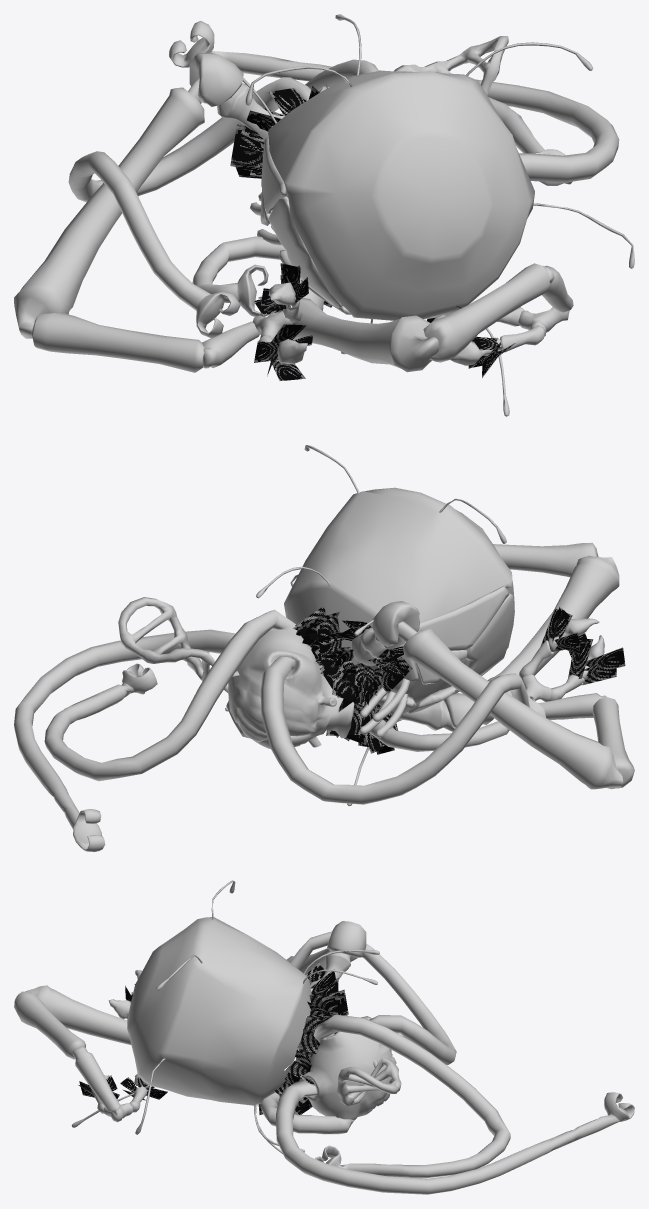
The model's file is scpd_Wrk_Death-pose_Mesh.fbx.
3 renders of one model, top to bottom at view 1: azimuth 30°, elevation 25°; view 2: azimuth 150°, elevation 25°; view 3: azimuth 270°, elevation 25°, orthographic. The views are drawn at different scales.
Visible parts, largest first — view 1: scifopodWorker_LOD0; view 2: scifopodWorker_LOD0; view 3: scifopodWorker_LOD0.
Part boxes in pixels (bbox=[...]): scifopodWorker_LOD0: bbox=[14, 14, 634, 416]; scifopodWorker_LOD0: bbox=[14, 445, 634, 851]; scifopodWorker_LOD0: bbox=[14, 880, 634, 1194].
Bounding box in the file's own units: 219 × 114 × 263.
